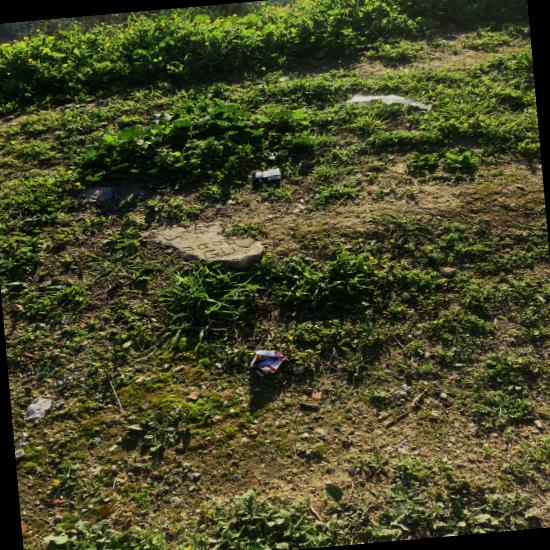Cigarette: (255, 370, 264, 377)
Other carton: (250, 350, 286, 373), (252, 167, 281, 182)
Plastic film: (347, 95, 431, 109)
